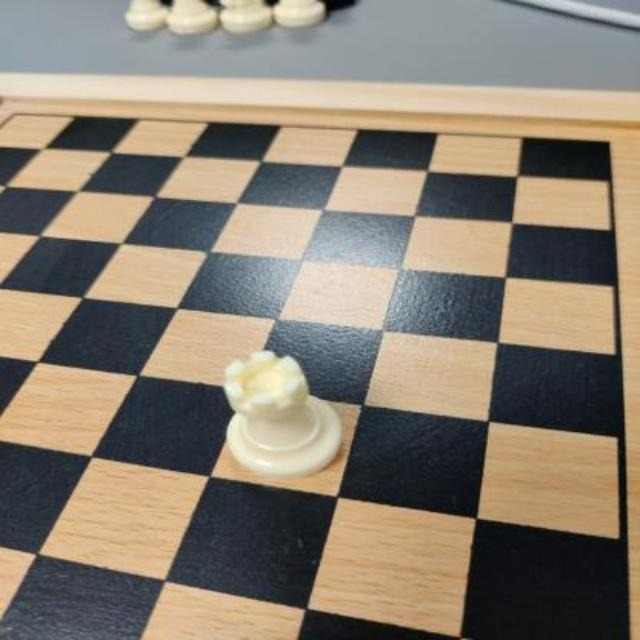white-rook: (221, 349, 348, 481)
